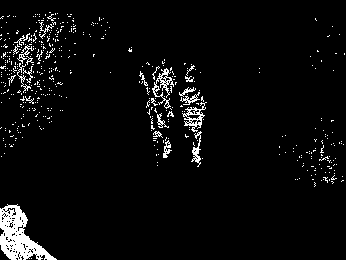person: (1, 198, 62, 260), (179, 81, 210, 170), (145, 83, 177, 163)
